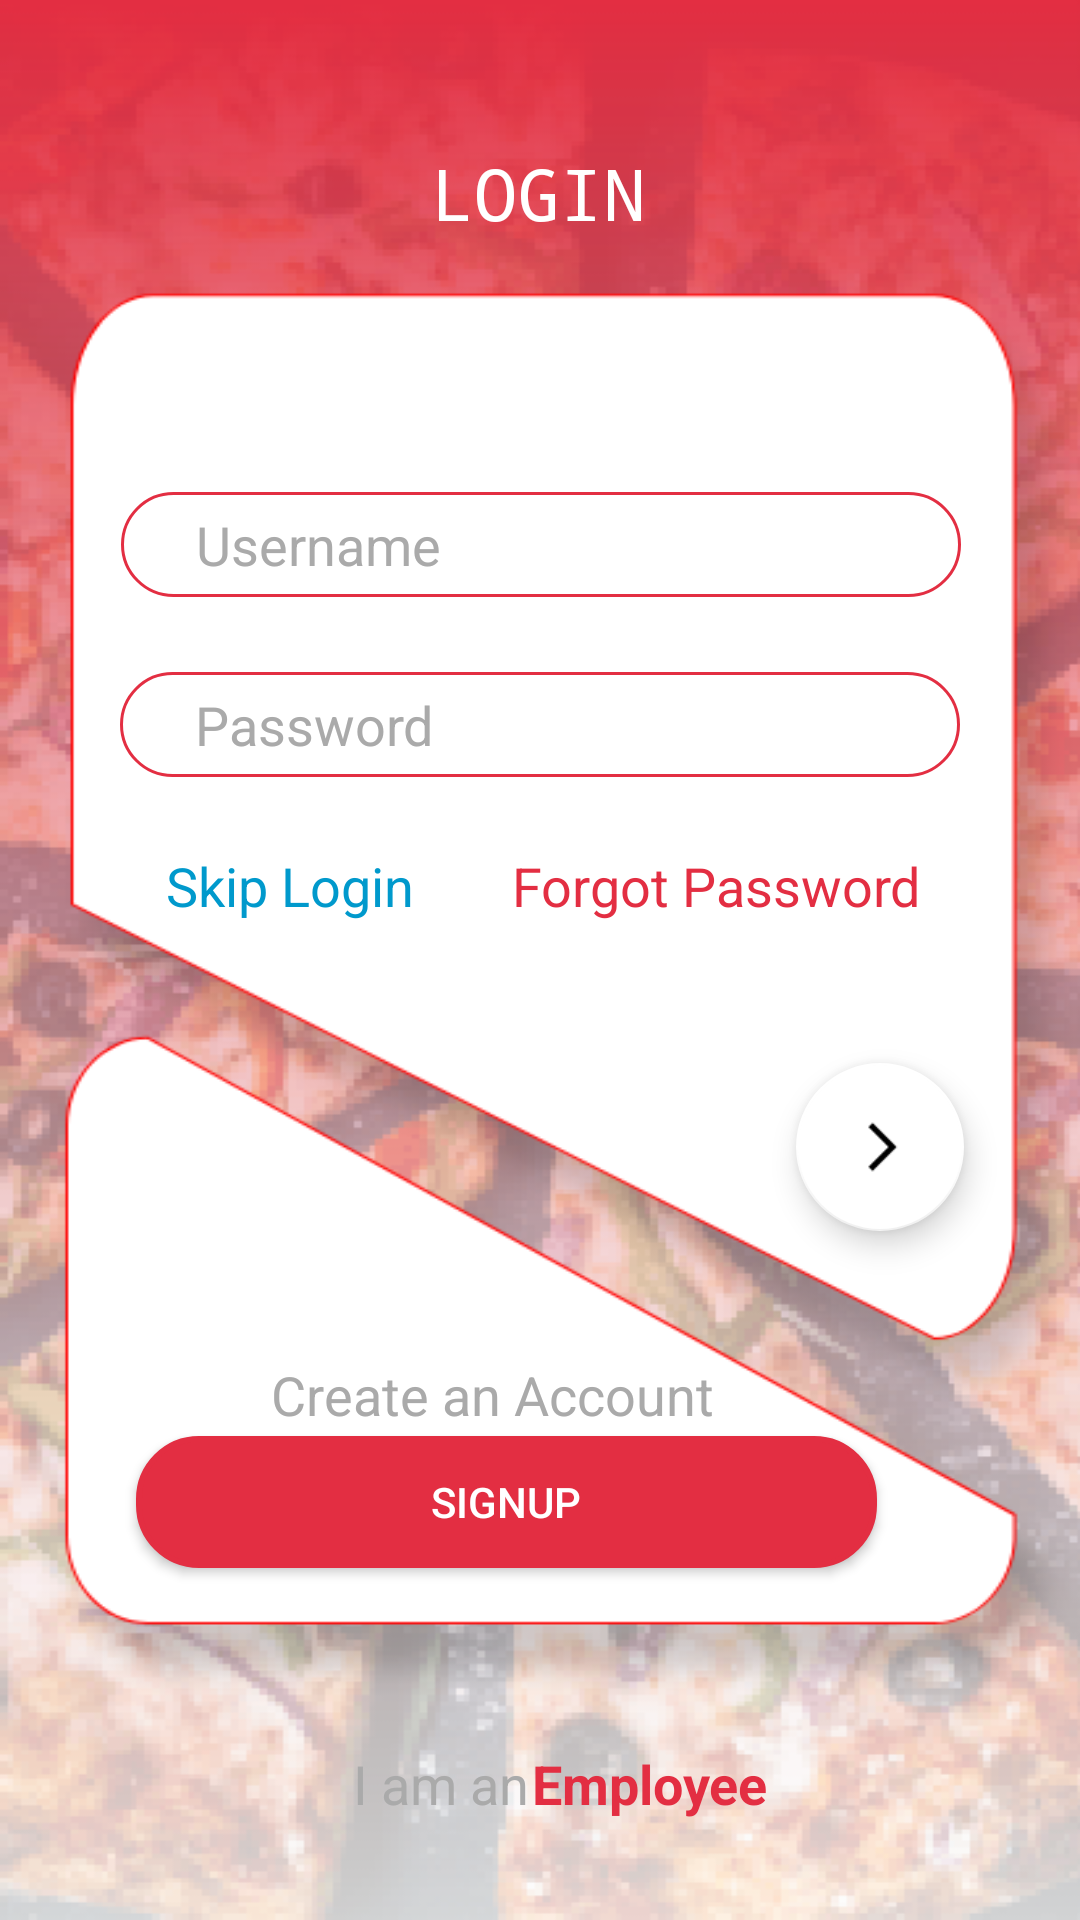

Icons on this 1080x1920 Android screen, each with the point to tap as point (x, y):
next: point (884, 1176)
